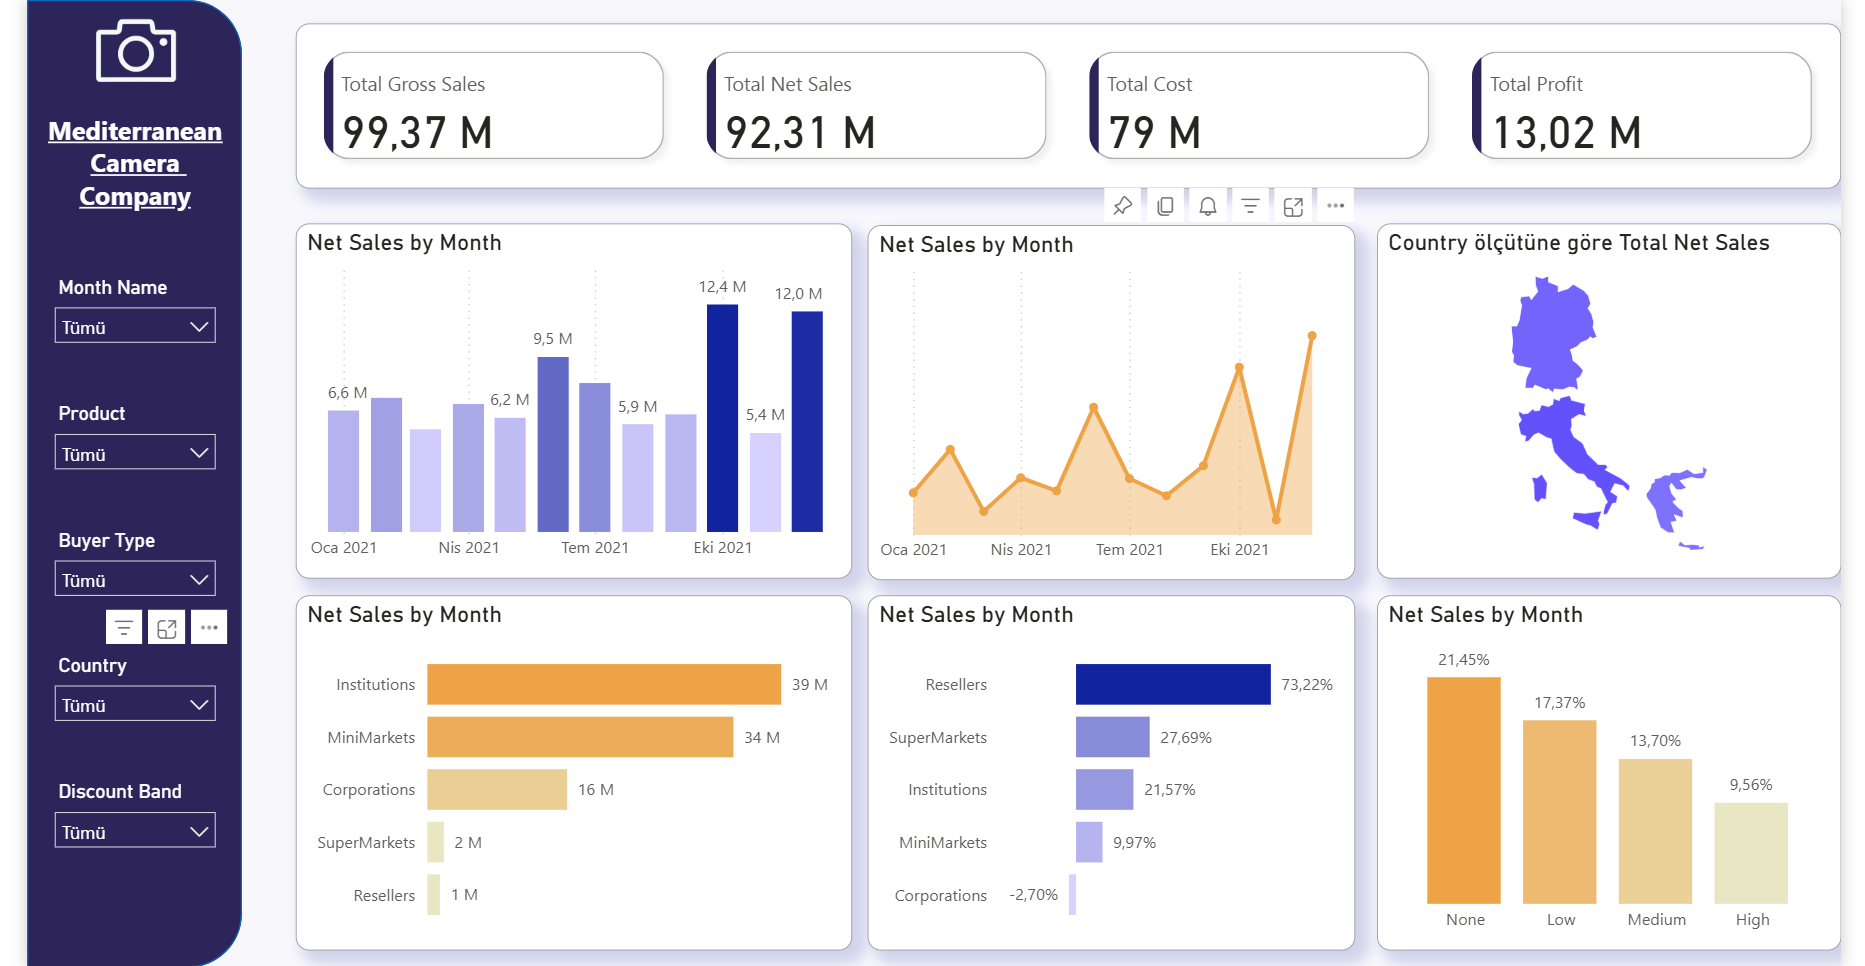

Layout of this report page (visuals, bound fields, positions):
{"tool":"powerbi","page":{"name":"Overview","canvas":[1350,720],"ordinal":0},"visuals":[{"type":"shape","box":[0,0,160,720],"z":0},{"type":"cardVisual","fields":{"Data":["Measure_.Total Gross Sales","Measure_.Total Net Sales","Measure_.Total Cost","Measure_.Total Profit"]},"box":[200,17.1,1150,122.9],"z":1000},{"type":"columnChart","title":"Net Sales by Month","fields":{"Y":["Measure_.Total Net Sales"],"Category":["Mediterranean Cameras Company.Date.Variation.Date Hierarchy.Month"]},"box":[200,165.7,414.3,264.3],"z":2000},{"type":"areaChart","title":"Net Sales by Month","fields":{"Category":["Mediterranean Cameras Company.Date.Variation.Date Hierarchy.Month"],"Y":["Measure_.Total Profit"]},"box":[625.7,167.1,362.9,264.3],"z":3000},{"type":"shapeMap","fields":{"Category":["Mediterranean Cameras Company.Country"],"Value":["Measure_.Total Net Sales"]},"box":[1004.3,165.7,345.7,264.3],"z":4000},{"type":"barChart","title":"Net Sales by Month","fields":{"Category":["Mediterranean Cameras Company.Buyer Type"],"Y":["Measure_.Total Net Sales"]},"box":[200,442.9,414.3,264.3],"z":5000},{"type":"barChart","title":"Net Sales by Month","fields":{"Category":["Mediterranean Cameras Company.Buyer Type"],"Y":["Measure_.Return On Sales"]},"box":[625.7,442.9,362.9,264.3],"z":6000},{"type":"columnChart","title":"Net Sales by Month","fields":{"Category":["Mediterranean Cameras Company.Discount Band"],"Y":["Measure_.Return On Sales"]},"box":[1004.3,442.9,345.7,264.3],"z":7000},{"type":"slicer","fields":{"Values":["Calendar.Month Name"]},"box":[10,200,140,70],"z":8000},{"type":"slicer","fields":{"Values":["Mediterranean Cameras Company.Product"]},"box":[10,293.9,140,70],"z":9000},{"type":"slicer","fields":{"Values":["Mediterranean Cameras Company.Buyer Type"]},"box":[10,387.9,140,70],"z":10000},{"type":"slicer","fields":{"Values":["Mediterranean Cameras Company.Country"]},"box":[10,481.8,140,70],"z":11000},{"type":"slicer","fields":{"Values":["Mediterranean Cameras Company.Discount Band"]},"box":[10,575.7,140,70],"z":12000},{"type":"image","box":[41.4,0,78.6,78.6],"z":13000},{"type":"textbox","box":[10,78.6,140,87.1],"z":14000}]}

Visuals, with their boxes in screenshot pixels (x1, y1, x2, y2), scaled from the page's 1350x720 canvas onto the 1865x966 screenshot:
shape: x1=0, y1=0, x2=221, y2=965
cardVisual - Measure_.Total Gross Sales x Measure_.Total Net Sales: x1=276, y1=23, x2=1864, y2=188
"Net Sales by Month" columnChart: x1=276, y1=222, x2=849, y2=577
"Net Sales by Month" areaChart: x1=864, y1=224, x2=1366, y2=579
shapeMap - Mediterranean Cameras Company.Country x Measure_.Total Net Sales: x1=1387, y1=222, x2=1864, y2=577
"Net Sales by Month" barChart: x1=276, y1=594, x2=849, y2=949
"Net Sales by Month" barChart: x1=864, y1=594, x2=1366, y2=949
"Net Sales by Month" columnChart: x1=1387, y1=594, x2=1864, y2=949
slicer - Calendar.Month Name: x1=14, y1=268, x2=207, y2=362
slicer - Mediterranean Cameras Company.Product: x1=14, y1=394, x2=207, y2=488
slicer - Mediterranean Cameras Company.Buyer Type: x1=14, y1=520, x2=207, y2=614
slicer - Mediterranean Cameras Company.Country: x1=14, y1=646, x2=207, y2=740
slicer - Mediterranean Cameras Company.Discount Band: x1=14, y1=772, x2=207, y2=866
image: x1=57, y1=0, x2=166, y2=105
textbox: x1=14, y1=105, x2=207, y2=222
